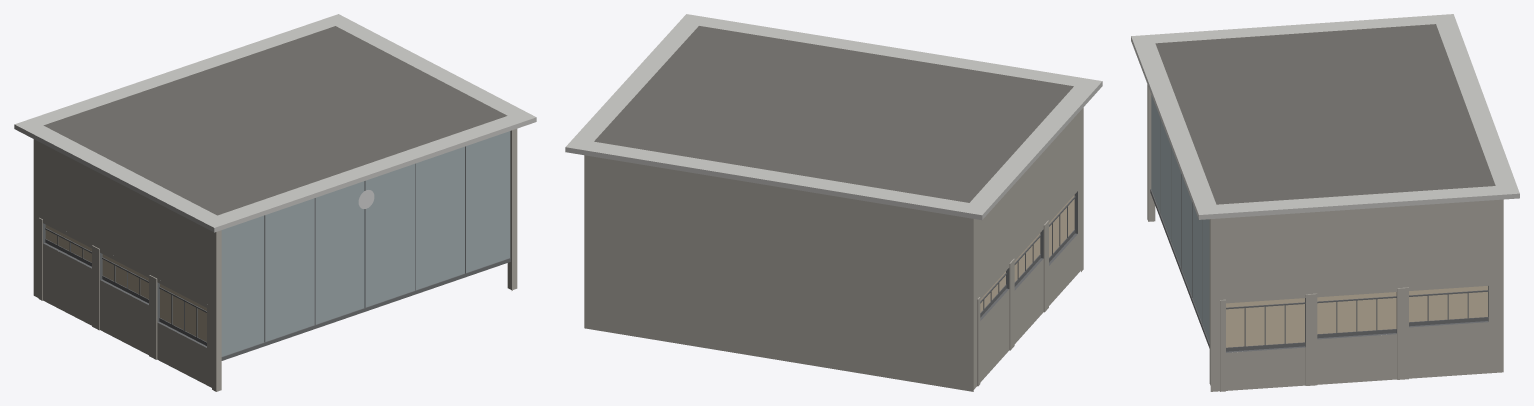
The model's file is apple_lod0.glb.
3 views of the same model, side by side, from view 1: azimuth 30°, elevation 25°; view 2: azimuth 150°, elevation 25°; view 3: azimuth 270°, elevation 25° (orthographic). The views are drawn at different scales.
Parts seen in each view (by area): view 1: L0_roof, L0_clear, L0_stone, L0_paint, L0_metal, L0_shop; view 2: L0_stone, L0_roof, L0_paint, L0_shop, L0_metal; view 3: L0_roof, L0_stone, L0_paint, L0_shop, L0_clear, L0_metal.
Boxes of the visible parts, <box> form: L0_roof: <box>43,26,507,215</box>; L0_clear: <box>221,131,510,356</box>; L0_stone: <box>33,129,517,391</box>; L0_paint: <box>14,14,536,232</box>; L0_metal: <box>43,146,510,360</box>; L0_shop: <box>45,225,206,341</box>; L0_stone: <box>584,107,1083,391</box>; L0_roof: <box>594,26,1073,202</box>; L0_paint: <box>565,14,1102,220</box>; L0_shop: <box>980,195,1074,312</box>; L0_metal: <box>980,191,1077,320</box>; L0_roof: <box>1155,24,1495,204</box>; L0_stone: <box>1147,84,1503,391</box>; L0_paint: <box>1131,14,1519,219</box>; L0_shop: <box>1226,286,1487,347</box>; L0_clear: <box>1151,95,1209,342</box>; L0_metal: <box>1150,119,1488,352</box>.
Bounding box in the file's own units: 40.38 × 17.22 × 32.99.
